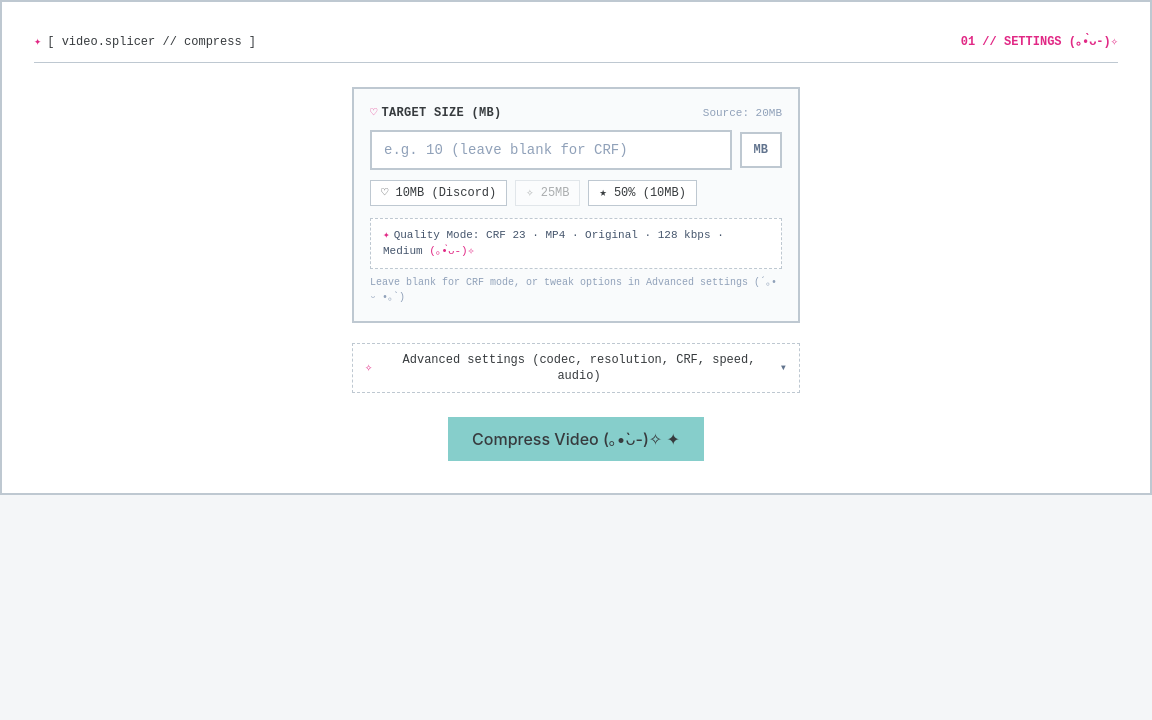
Test: CompressionPanel › polling progress and terminal states › renders server error banner on Failed
This screenshot has width=1152, height=720.
What coordinates should you click on to do the following:
click the button with test id "start-compression-btn"
I would click on:
 (576, 438)
Its box is [448,416,704,460].
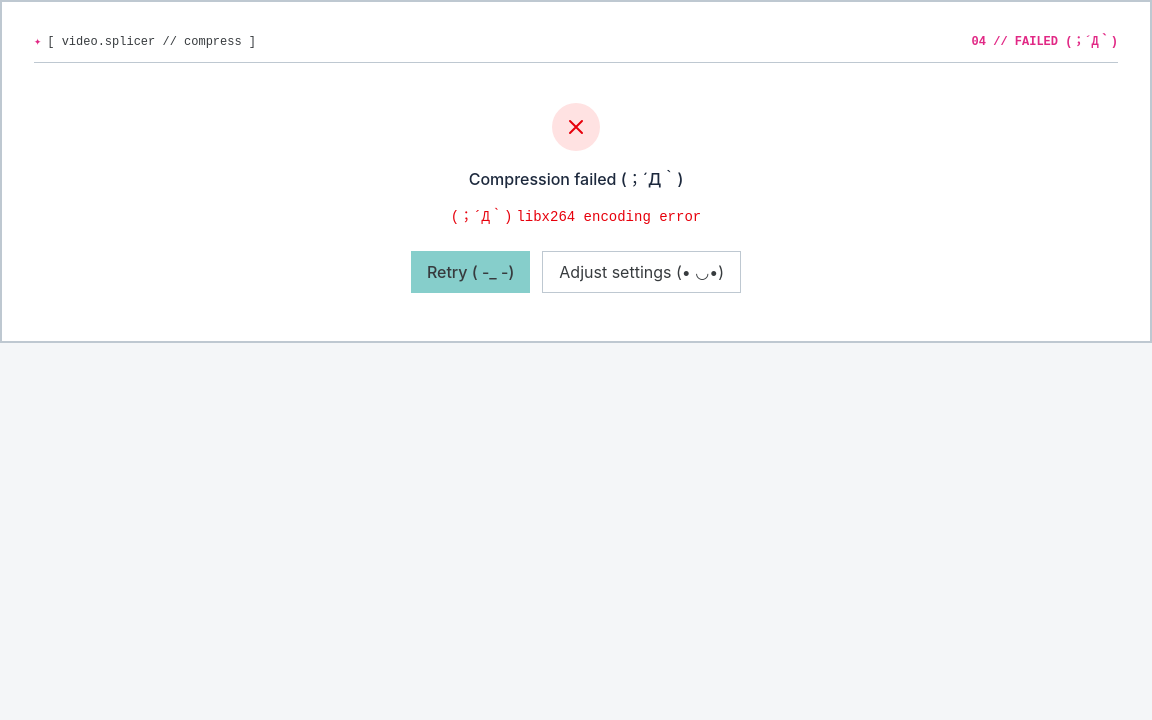
Expected: the element with test id "compression-error" is shown, [411,103,741,293]
Expected: the message with test id "compression-error-message" shows "libx264 encoding error", [516,209,701,225]
